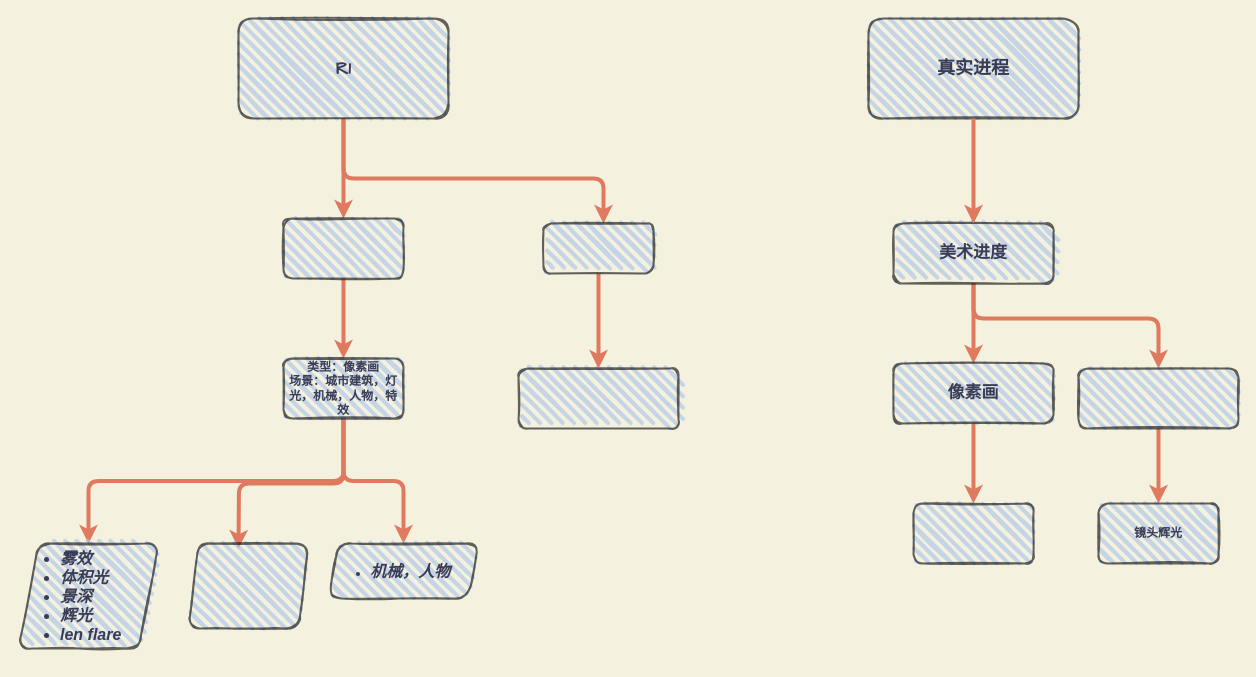
Some shapes in this 1256 by 677 pixel diagram are drawn without their labels. Here are the shapes that lost their labels. From the top down, the centre of each, then its label:
the point at 343,248: 美术目标
the point at 1158,398: 特效
the point at 973,533: 城市建筑
the point at 248,585: 背景建筑 前景建筑 天空
